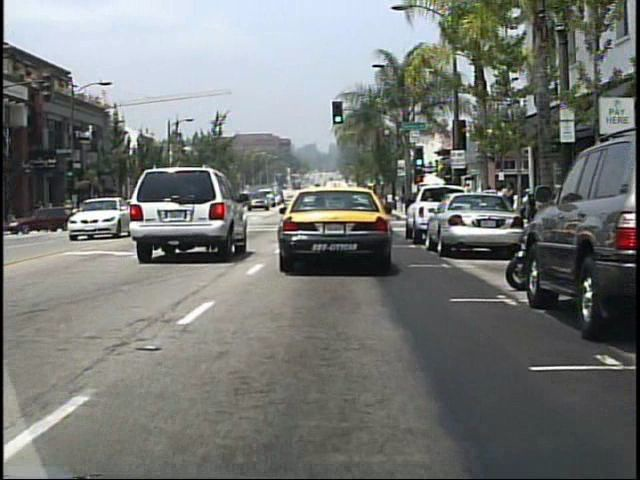person: (499, 181, 517, 231)
